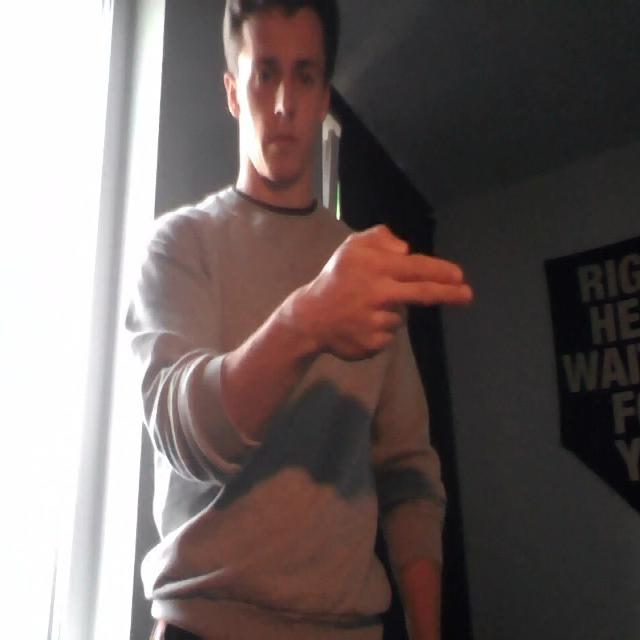right: (288, 221, 484, 369)
